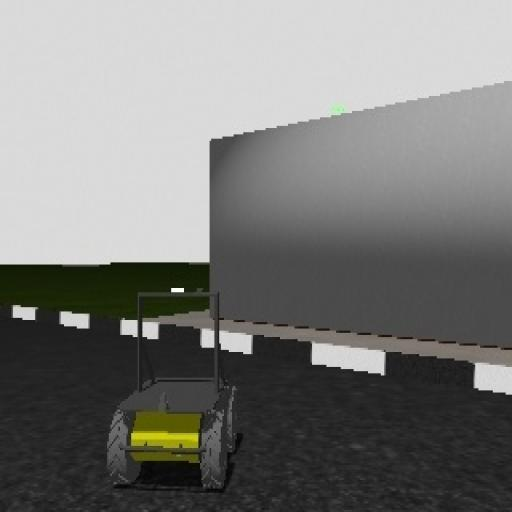huskya200: (102, 284, 237, 494)
